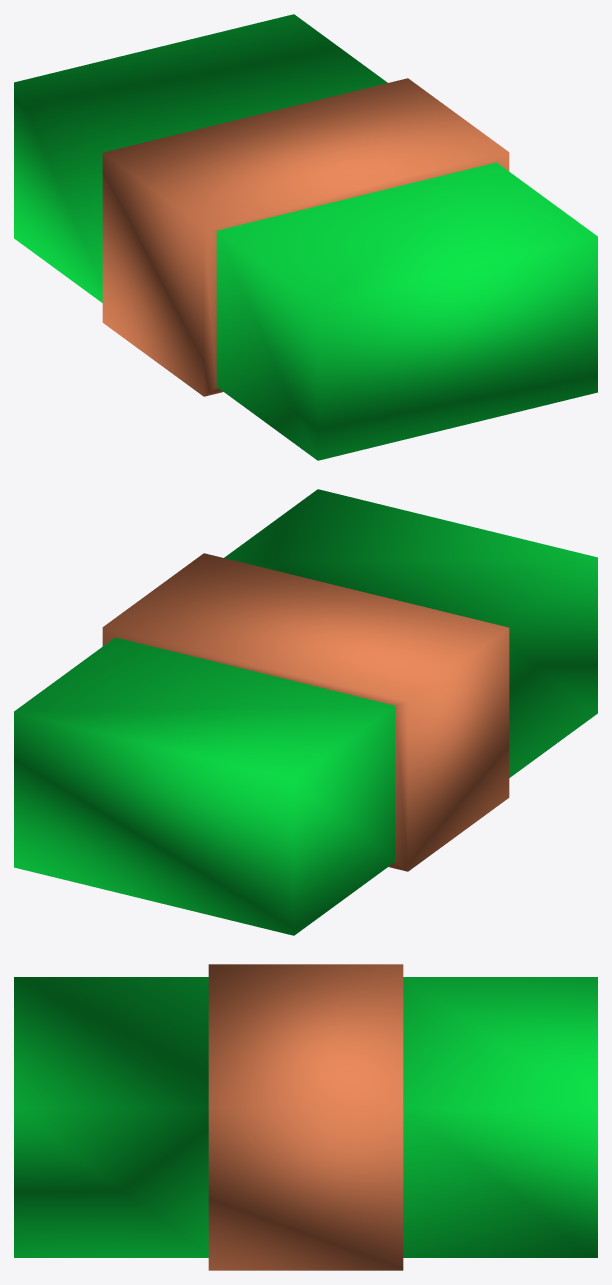
Rendered from Money.fbx.
3 renders of one model, top to bottom at view 1: azimuth 30°, elevation 25°; view 2: azimuth 150°, elevation 25°; view 3: azimuth 270°, elevation 25°, orthographic. The views are drawn at different scales.
Visible parts, largest first — view 1: Money; view 2: Money; view 3: Money.
Boxes of the visible parts, <box> form: Money: <box>14,14,597,460</box>; Money: <box>14,489,597,935</box>; Money: <box>14,964,597,1270</box>.
Size of the model in its own units: 17.45 by 9.28 by 30.08.
